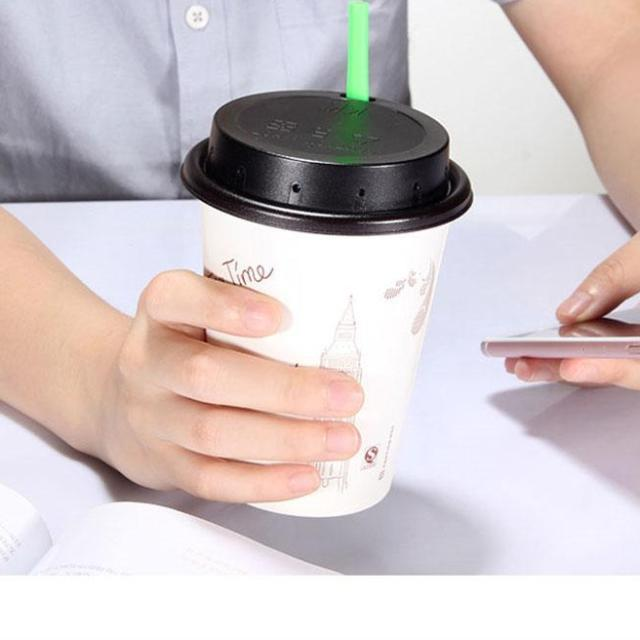hidden camera: (281, 169, 312, 214)
